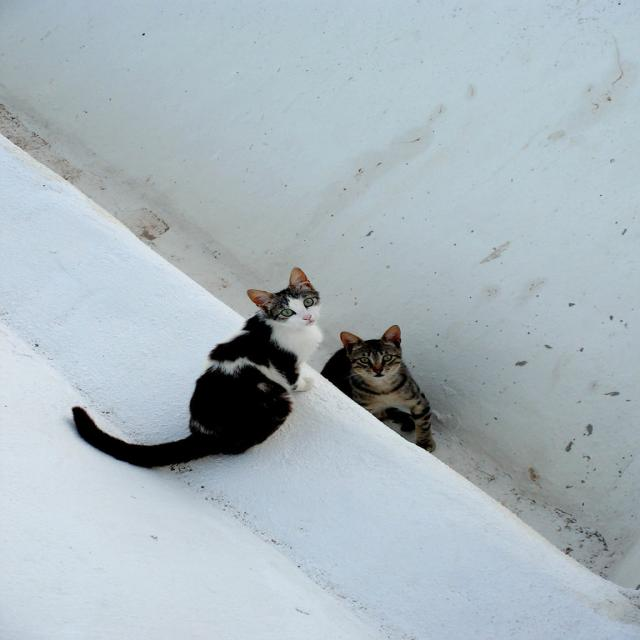Cat: (67, 266, 316, 473), (316, 322, 434, 452)
